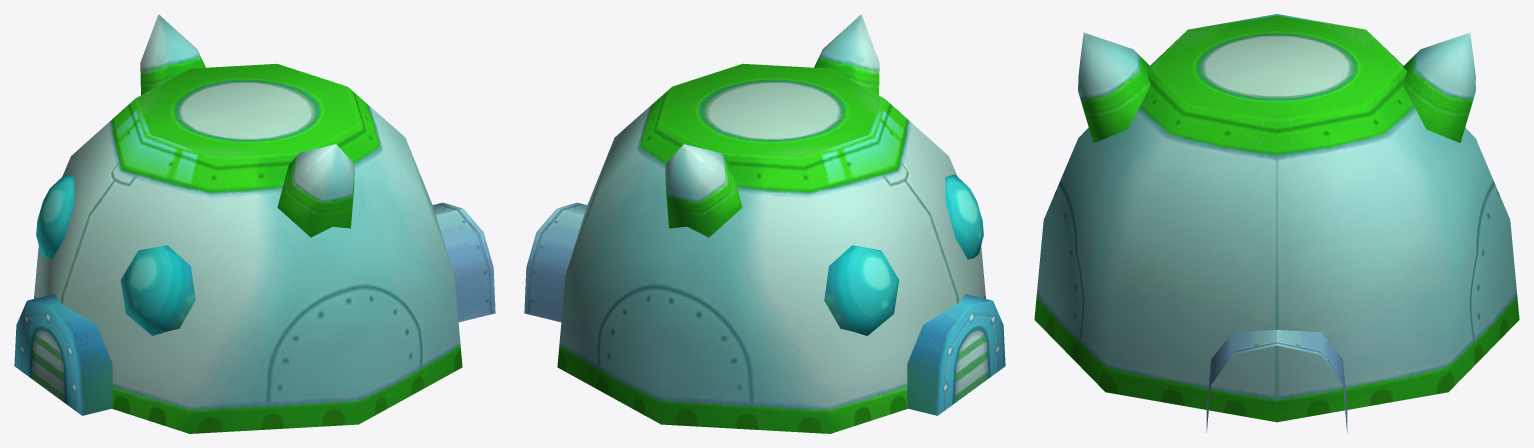
Rendered from cj_jianzhu12.fbx.
3 renders of one model, left to right at view 1: azimuth 30°, elevation 25°; view 2: azimuth 150°, elevation 25°; view 3: azimuth 270°, elevation 25°, orthographic. The views are drawn at different scales.
Visible parts, largest first — view 1: shen, men, er2, yan2, pinjie, er1, yan1; view 2: shen, men, er1, yan1, pinjie, er2, yan2; view 3: shen, er2, er1, pinjie.
Boxes of the visible parts, x1,y1,x2,y2 form: shen: (34,63,462,433); men: (14,294,112,415); er2: (277,144,354,237); yan2: (120,245,195,335); pinjie: (432,202,495,322); er1: (140,14,205,94); yan1: (36,174,74,259); shen: (557,63,985,433); men: (907,294,1005,415); er1: (665,144,742,237); yan1: (824,245,899,335); pinjie: (524,202,587,322); er2: (814,14,879,94); yan2: (945,174,983,259); shen: (1034,14,1519,422); er2: (1078,32,1150,142); er1: (1403,32,1475,142); pinjie: (1206,330,1347,432).
Size of the model in its own units: 5333 by 3242 by 4960.
